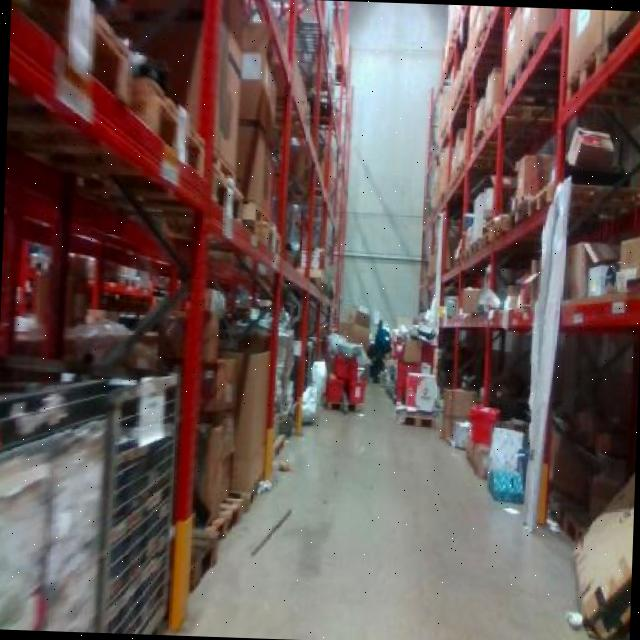pallet: (7, 0, 137, 124), (129, 65, 218, 194), (198, 163, 254, 231), (203, 481, 251, 554)
